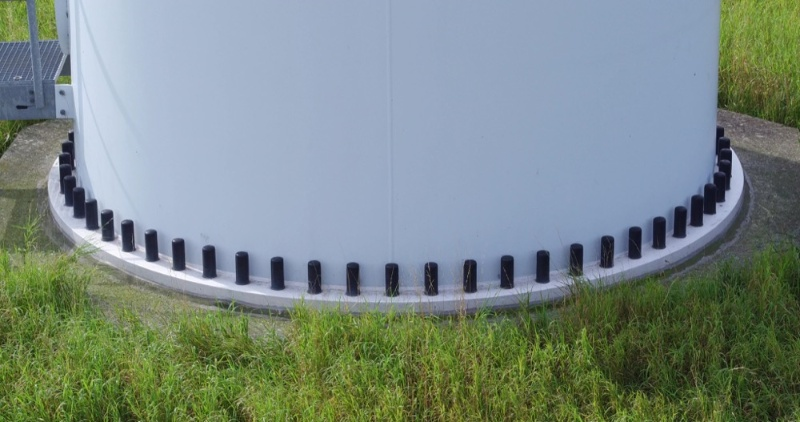weldseam: (380, 1, 398, 260)
